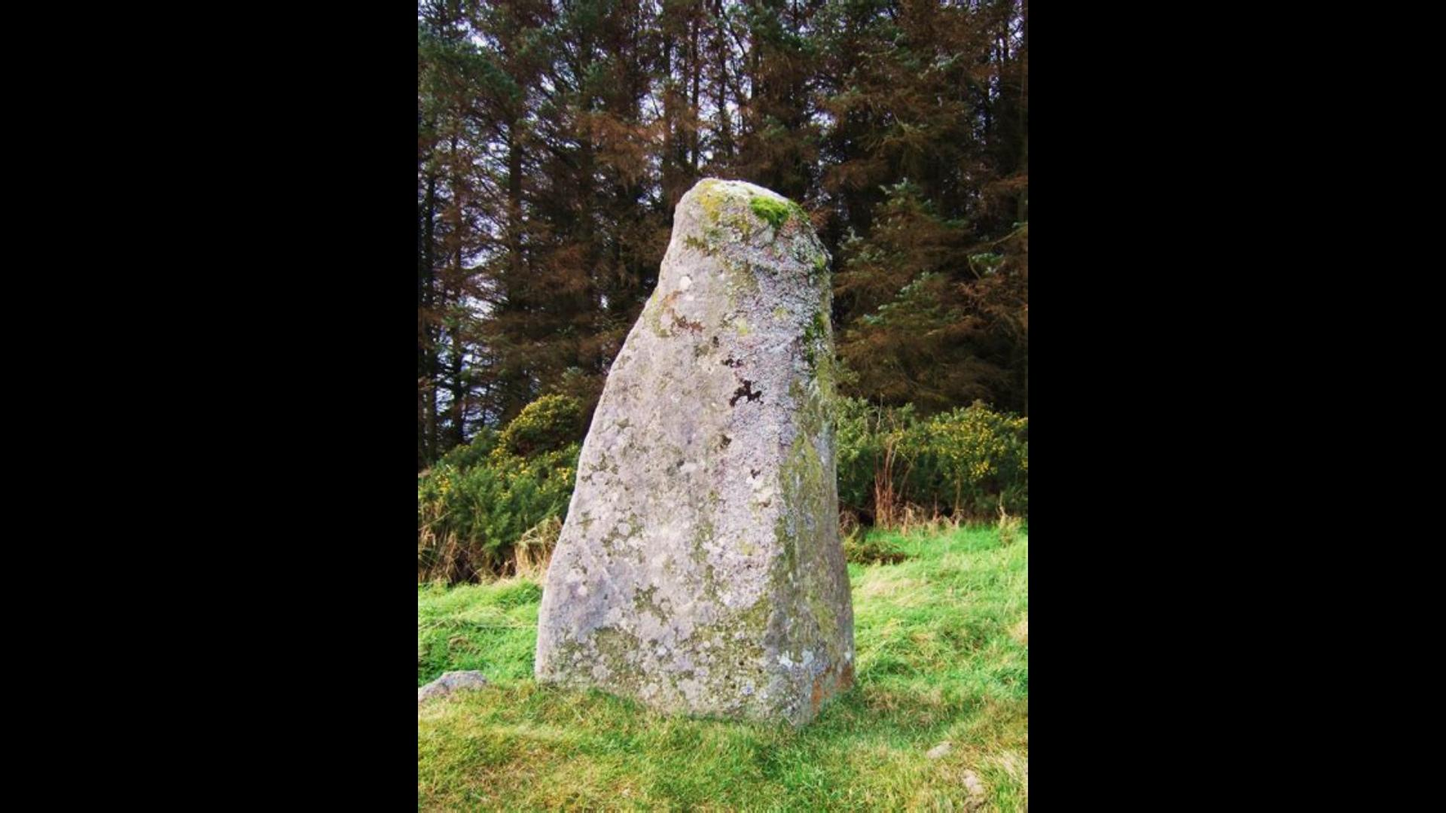rock: (536, 179, 853, 722)
